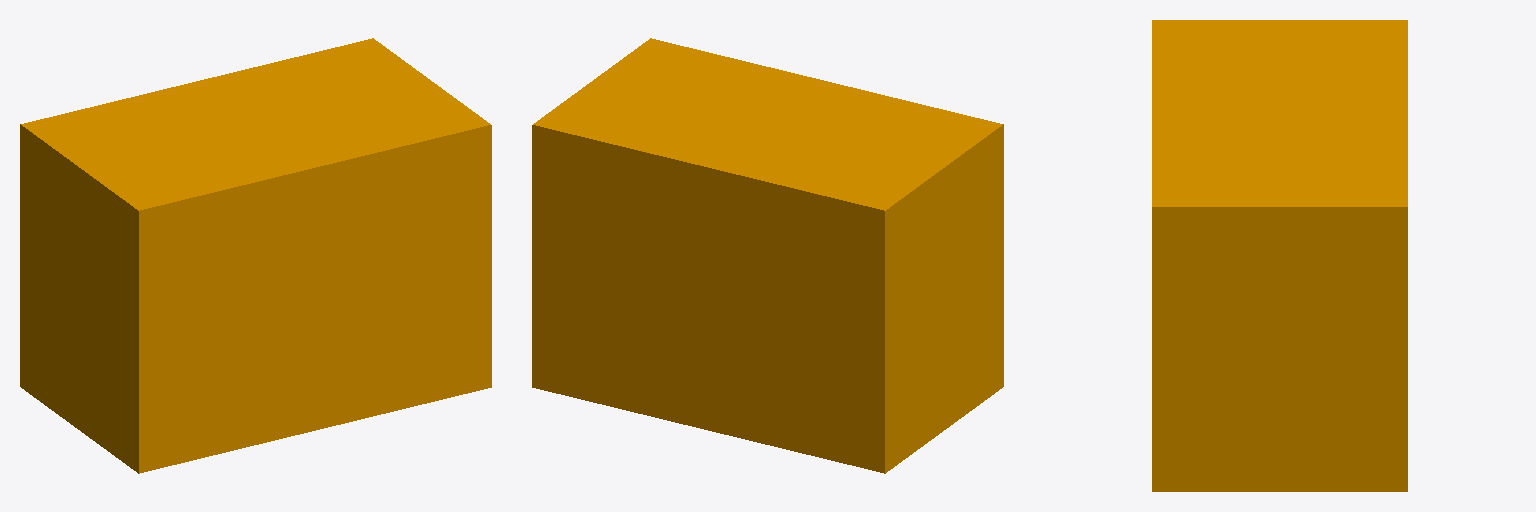
robot.urdf — cozmo:
<?xml version="1.0"?>
<robot name="cozmo">
  <link name="body">
    <visual>
      <geometry>
        <box size="0.0988 0.0573 0.07034"/>
      </geometry>
    </visual>
  </link>
</robot>

--- Render facts (derived) ---
3 views of the same robot in one strip: view 1: azimuth 30°, elevation 25°; view 2: azimuth 150°, elevation 25°; view 3: azimuth 270°, elevation 25° (orthographic).
Robot: cozmo — 1 links, 0 joints (none); root link body; default pose: all joints at 0.
Visible links, largest first — view 1: body; view 2: body; view 3: body.
Boxes of the visible links, x1,y1,x2,y2 form: body: (20, 38, 491, 473); body: (532, 38, 1003, 473); body: (1152, 20, 1407, 491).
Size in the robot's own frame: 0.0988 by 0.0573 by 0.0703 metres.
Geometry: primitives only (box / cylinder / sphere), no mesh files.